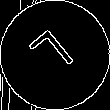L_SE: (27, 26, 83, 84)
